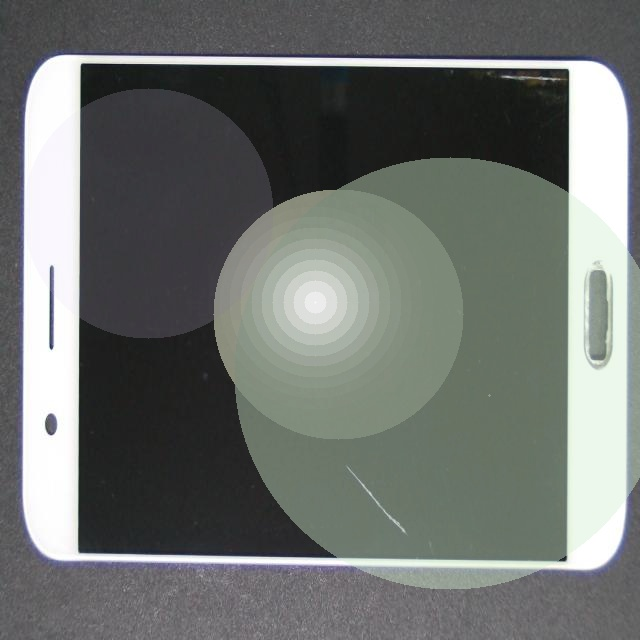scratch: (221, 274, 564, 640)
